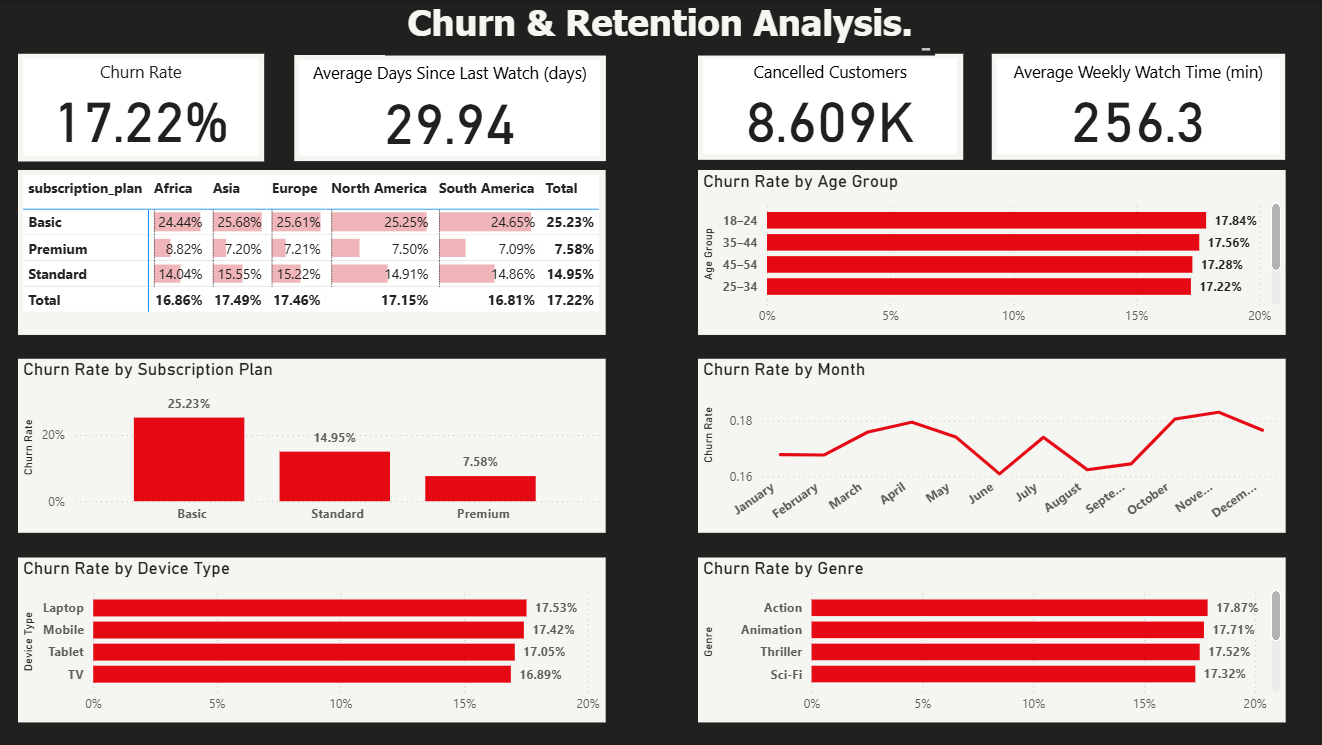

The dashboard page shown, as its layout file describes it:
{"tool":"powerbi","page":{"name":"Churn Analysis","canvas":[1280,720],"ordinal":2},"visuals":[{"type":"cardVisual","fields":{"Data":["netflix.Churn Rate"]},"box":[19.3,51.9,237.7,103.8],"z":0},{"type":"cardVisual","fields":{"Data":["netflix.Cancelled Customers"]},"box":[675.6,51.9,255.8,102.5],"z":1000},{"type":"cardVisual","fields":{"Data":["netflix.Average Days Since Last Watch"]},"box":[285.9,53.1,300.4,102.5],"z":2000},{"type":"cardVisual","fields":{"Data":["netflix.Average Weekly Watch Time"]},"box":[959.1,51.9,283.5,102.5],"z":3000},{"type":"clusteredColumnChart","fields":{"Category":["netflix.subscription_plan"],"Y":["netflix.Churn Rate"]},"box":[19.3,346.2,567,167.7],"z":4000},{"type":"pivotTable","fields":{"Columns":["netflix.region"],"Rows":["netflix.subscription_plan"],"Values":["netflix.Churn Rate"]},"box":[19.3,164.1,567,159.3],"z":5000},{"type":"barChart","fields":{"Category":["netflix.genre"],"Y":["netflix.Churn Rate"]},"box":[675.6,538.1,567,159.3],"z":6000},{"type":"barChart","fields":{"Category":["netflix.device_type"],"Y":["netflix.Churn Rate"]},"box":[19.3,538.1,567,159.3],"z":7000},{"type":"textbox","title":"Churn & Retention Analysis.","box":[374,0,530.2,53.6],"z":8000},{"type":"lineChart","fields":{"Category":["netflix.subscription_start_date.Variation.Date Hierarchy.Month"],"Y":["netflix.Churn Rate %"]},"box":[675.6,346.2,567,167.7],"z":9000},{"type":"barChart","fields":{"Category":["netflix.Age Group"],"Y":["netflix.Churn Rate"]},"box":[675.6,164.1,567,159.3],"z":10000}]}

Visuals, with their boxes in screenshot pixels (x1, y1, x2, y2), scaled from the page's 1280x720 canvas onto the 1322x745 screenshot:
cardVisual - netflix.Churn Rate: <box>20,54,265,161</box>
cardVisual - netflix.Cancelled Customers: <box>698,54,962,160</box>
cardVisual - netflix.Average Days Since Last Watch: <box>295,55,606,161</box>
cardVisual - netflix.Average Weekly Watch Time: <box>991,54,1283,160</box>
clusteredColumnChart - netflix.subscription_plan x netflix.Churn Rate: <box>20,358,606,532</box>
pivotTable - netflix.region x netflix.subscription_plan: <box>20,170,606,335</box>
barChart - netflix.genre x netflix.Churn Rate: <box>698,557,1283,722</box>
barChart - netflix.device_type x netflix.Churn Rate: <box>20,557,606,722</box>
"Churn & Retention Analysis." textbox: <box>386,0,934,55</box>
lineChart - netflix.subscription_start_date.Variation.Date Hierarchy.Month x netflix.Churn Rate %: <box>698,358,1283,532</box>
barChart - netflix.Age Group x netflix.Churn Rate: <box>698,170,1283,335</box>
